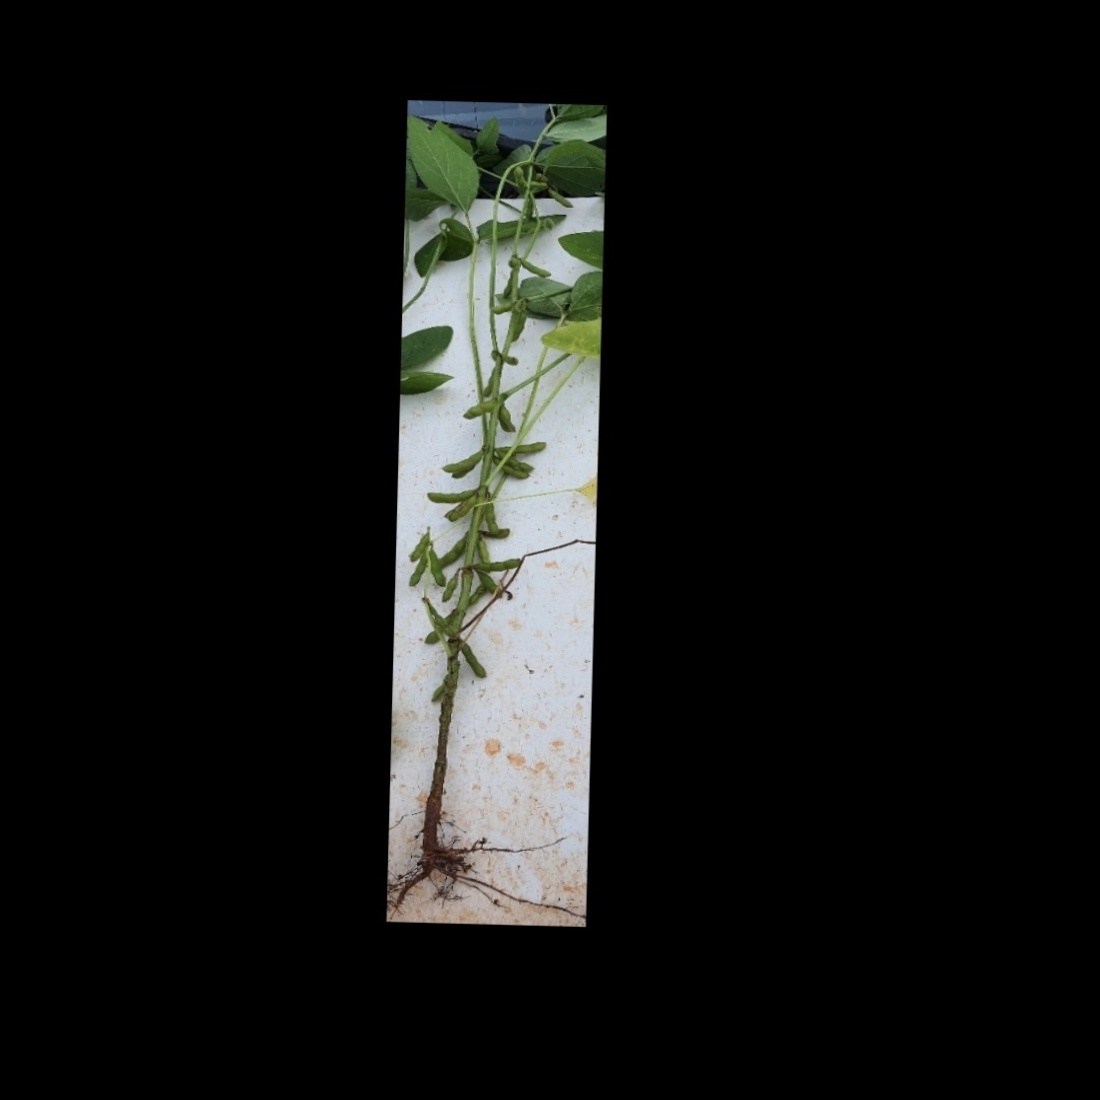pod: (458, 636, 489, 681), (437, 533, 471, 568), (426, 485, 479, 504), (408, 547, 431, 589), (471, 556, 521, 575), (426, 547, 448, 588), (425, 672, 451, 705), (408, 526, 430, 562), (547, 186, 578, 210), (519, 258, 553, 278), (477, 573, 506, 597), (441, 571, 462, 602), (511, 165, 529, 191)
soy: (407, 148, 586, 893)
